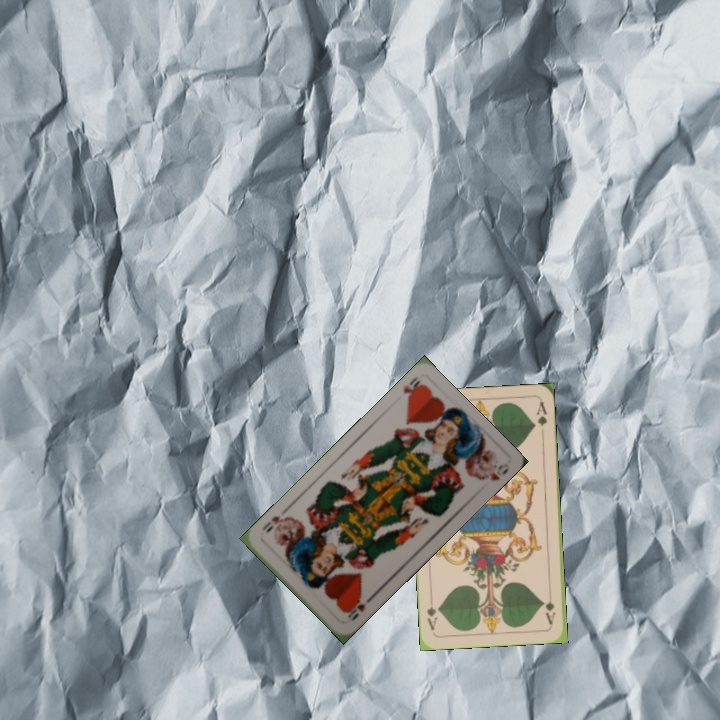GA: (542, 587, 559, 627)
HO: (341, 592, 375, 624), (399, 372, 427, 403)
